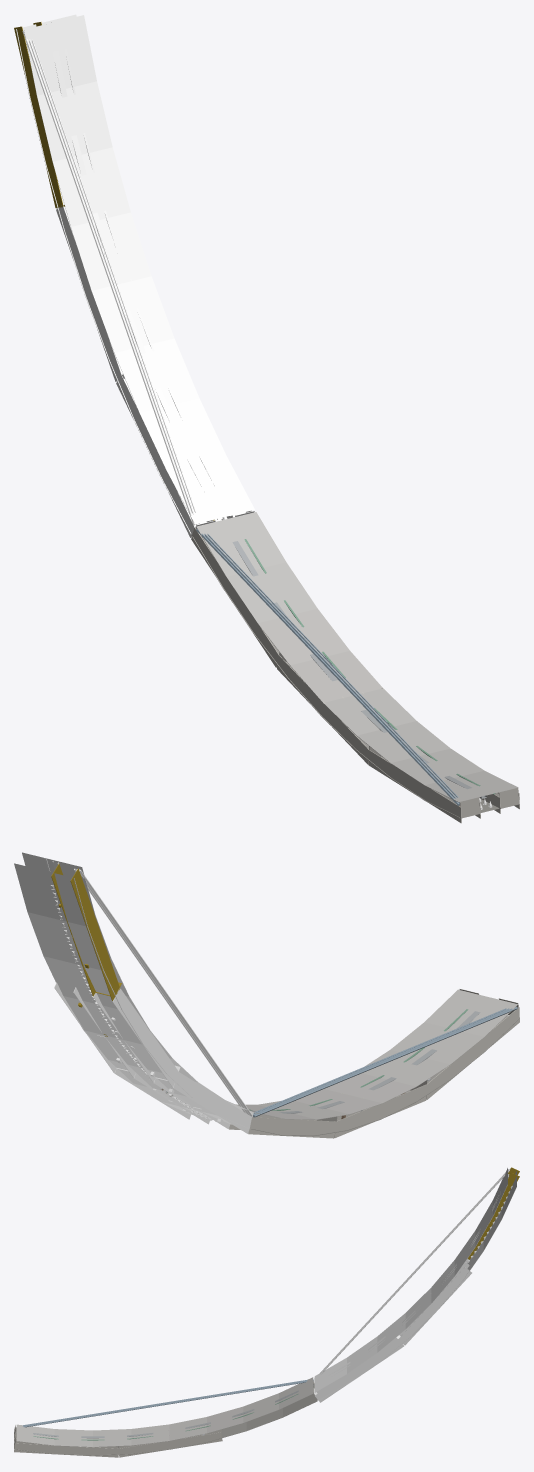
The model's file is xuanshu_interior_C58.glb.
The picture shows the model from 3 angles, top to bottom: view 1: azimuth 30°, elevation 25°; view 2: azimuth 150°, elevation 25°; view 3: azimuth 270°, elevation 25°; orthographic projection. The views are drawn at different scales.
Visible parts, largest first — view 1: UNIT-WTP-005_S0; view 2: UNIT-WTP-005_S0; view 3: UNIT-WTP-005_S0.
Boxes of the visible parts, box(x1,y1,x2,y2) form: UNIT-WTP-005_S0: box(14, 14, 519, 823); UNIT-WTP-005_S0: box(14, 852, 519, 1138); UNIT-WTP-005_S0: box(14, 1167, 519, 1457).
Size of the model in its own units: 13.31 by 103 by 172.
